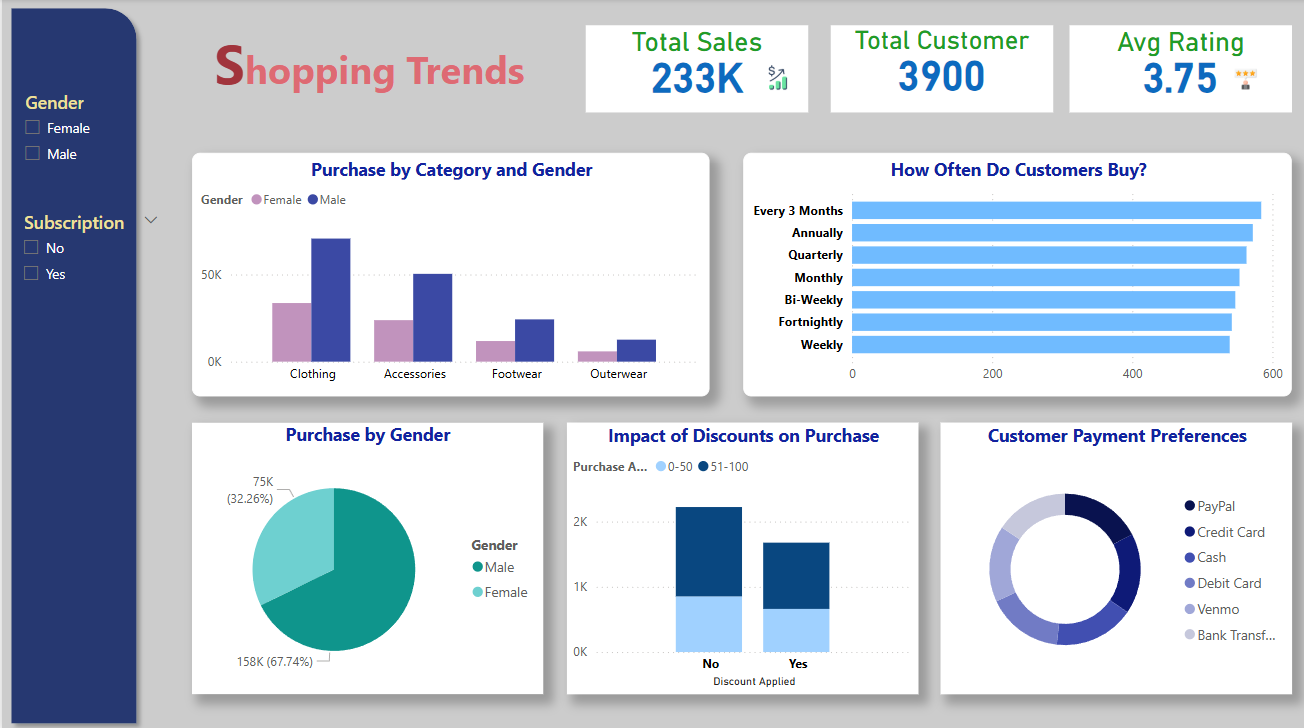

What the dashboard file says about the page in this screenshot:
{"tool":"powerbi","page":{"name":"Page 1","canvas":[1280,720],"ordinal":0},"visuals":[{"type":"shape","box":[0,0,156.8,719.8],"z":0},{"type":"clusteredColumnChart","title":" Purchase by Category and Gender","fields":{"Category":["shopping_trends (1).Category"],"Y":["Sum(shopping_trends (1).Purchase Amount (USD))"],"Series":["shopping_trends (1).Gender"]},"box":[186.5,150.9,508,239.3],"z":1000},{"type":"pieChart","title":"Purchase by Gender","fields":{"Y":["Sum(shopping_trends (1).Purchase Amount (USD))"],"Category":["shopping_trends (1).Gender"]},"box":[186.5,416,345,266.3],"z":2000},{"type":"columnChart","title":"Impact of Discounts on Purchase ","fields":{"Category":["shopping_trends (1).Discount Applied"],"Y":["CountNonNull(shopping_trends (1).Item Purchased)"],"Series":["shopping_trends (1).Purchase Amount Range"]},"box":[554.6,416,344.8,266.3],"z":3000},{"type":"donutChart","title":"Customer Payment Preferences","fields":{"Y":["CountNonNull(shopping_trends (1).Payment Method)"],"Category":["shopping_trends (1).Preferred Payment Method"]},"box":[921.5,416,344.8,266.3],"z":4000},{"type":"clusteredBarChart","title":"How Often Do Customers Buy?","fields":{"Y":["CountNonNull(shopping_trends (1).Customer ID)"],"Category":["shopping_trends (1).Frequency of Purchases"]},"box":[727.6,150.9,538.7,239.3],"z":5000},{"type":"slicer","fields":{"Values":["shopping_trends (1).Gender"]},"box":[9.8,68.7,147.2,89.6],"z":6000},{"type":"slicer","fields":{"Values":["shopping_trends (1).Subscription Status"]},"box":[9.8,177.9,157.1,103.1],"z":7000},{"type":"card","title":"Total Sales","fields":{"Values":["Sum(shopping_trends (1).Purchase Amount (USD))"]},"box":[585.3,20.9,218.4,85.9],"z":8000},{"type":"card","title":"Total Customer","fields":{"Values":["Count(shopping_trends (1).Customer ID)"]},"box":[820.9,20.9,216,85.9],"z":9000},{"type":"card","title":"Avg Rating","fields":{"Values":["Avg(shopping_trends (1).Review Rating)"]},"box":[1047.9,20.9,218.4,85.9],"z":10000},{"type":"image","box":[1195.1,51.5,49.1,36.8],"z":11000},{"type":"image","box":[749.7,51.5,41.7,36.8],"z":12000},{"type":"textbox","box":[157.1,20.9,407.4,95.7],"z":13000}]}

Visuals, with their boxes in screenshot pixels (x1, y1, x2, y2), scaled from the page's 1280x720 canvas onto the 1304x728 screenshot:
shape: bbox=(0, 0, 160, 727)
" Purchase by Category and Gender" clusteredColumnChart: bbox=(190, 153, 708, 395)
"Purchase by Gender" pieChart: bbox=(190, 421, 541, 690)
"Impact of Discounts on Purchase " columnChart: bbox=(565, 421, 916, 690)
"Customer Payment Preferences" donutChart: bbox=(939, 421, 1290, 690)
"How Often Do Customers Buy?" clusteredBarChart: bbox=(741, 153, 1290, 395)
slicer - shopping_trends (1).Gender: bbox=(10, 69, 160, 160)
slicer - shopping_trends (1).Subscription Status: bbox=(10, 180, 170, 284)
"Total Sales" card: bbox=(596, 21, 819, 108)
"Total Customer" card: bbox=(836, 21, 1056, 108)
"Avg Rating" card: bbox=(1068, 21, 1290, 108)
image: bbox=(1218, 52, 1268, 89)
image: bbox=(764, 52, 806, 89)
textbox: bbox=(160, 21, 575, 118)
